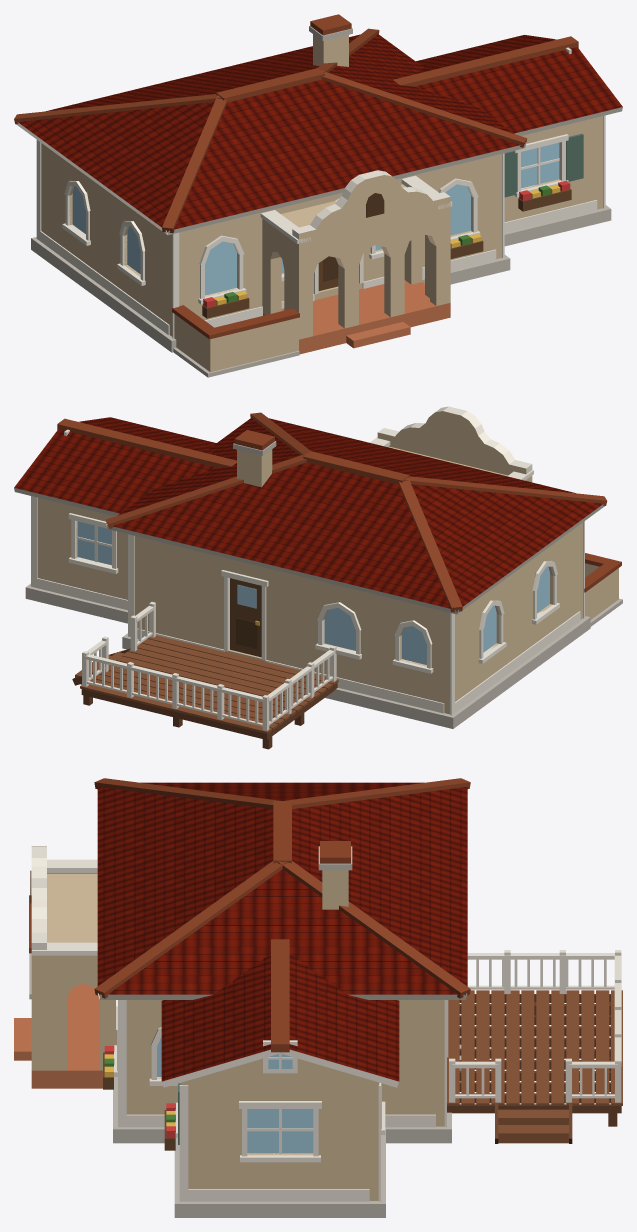
Rendered from base-09-level3.glb.
3 views of the same model, one above another, from view 1: azimuth 30°, elevation 25°; view 2: azimuth 150°, elevation 25°; view 3: azimuth 270°, elevation 25° (orthographic). The views are drawn at different scales.
Visible parts, largest first — view 1: base_house_9_finished, piece_addition; view 2: base_house_9_finished, piece_addition, piece_deck; view 3: base_house_9_finished, piece_addition, piece_deck.
Boxes of the visible parts, left/top/right/bottom form: base_house_9_finished: left=14, top=14, right=527, bottom=377; piece_addition: left=393, top=35, right=622, bottom=246; base_house_9_finished: left=106, top=406, right=622, bottom=728; piece_addition: left=14, top=417, right=236, bottom=623; piece_deck: left=72, top=602, right=338, bottom=749; base_house_9_finished: left=14, top=778, right=470, bottom=1143; piece_addition: left=161, top=939, right=399, bottom=1217; piece_deck: left=447, top=950, right=622, bottom=1143.
Size of the model in its own units: 15.36 by 6.12 by 13.83.
Materials: 18 (1 with a texture image).
